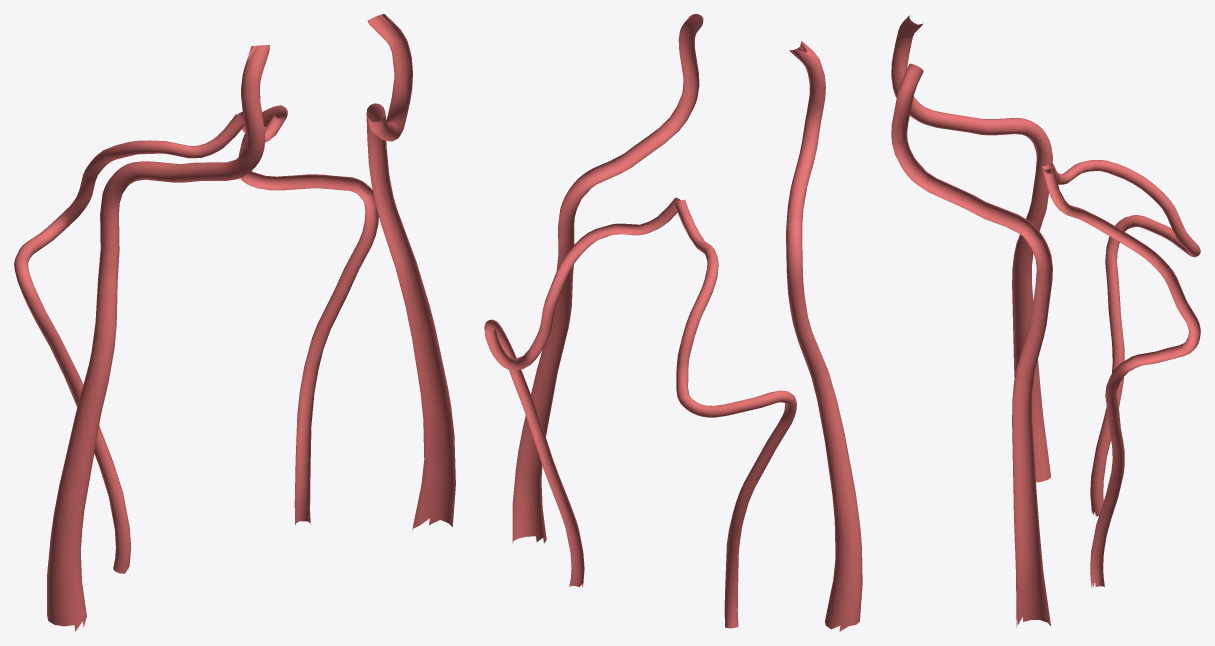
The model's file is zanatomy-neckvessels-skull.glb.
The picture shows the model from 3 angles, left to right: view 1: azimuth 30°, elevation 25°; view 2: azimuth 150°, elevation 25°; view 3: azimuth 270°, elevation 25°; orthographic projection. The views are drawn at different scales.
Parts seen in each view (by area): view 1: zu_ica_r, zu_ica_l, zu_va_r, zu_va_l; view 2: zu_ica_r, zu_ica_l, zu_va_r, zu_va_l; view 3: zu_ica_l, zu_ica_r, zu_va_l, zu_va_r.
Part boxes in pixels (box(x1,y1,x2,y2)): zu_ica_r: box(47, 45, 269, 631); zu_ica_l: box(366, 14, 455, 530); zu_va_r: box(14, 114, 244, 573); zu_va_l: box(237, 105, 378, 524); zu_ica_r: box(786, 41, 862, 631); zu_ica_l: box(512, 14, 703, 543); zu_va_r: box(674, 199, 796, 628); zu_va_l: box(484, 197, 680, 587); zu_ica_l: box(891, 63, 1052, 627); zu_ica_r: box(891, 15, 1052, 482); zu_va_l: box(1041, 163, 1200, 588); zu_va_r: box(1043, 160, 1200, 516).
Size of the model in its own units: 0.0736 by 0.1048 by 0.0572.
